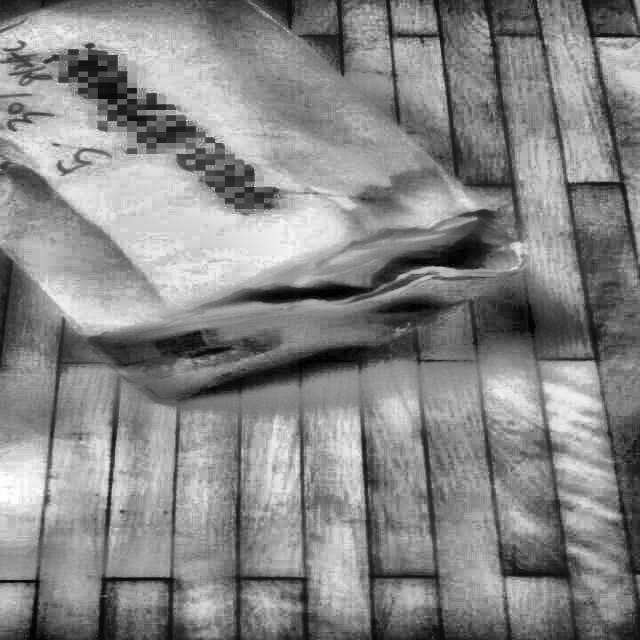box: (0, 0, 547, 412)
hole: (202, 228, 516, 310)
